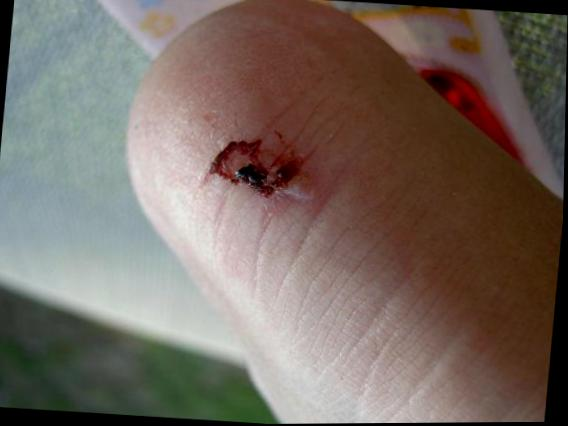Fire: (209, 140, 299, 198)
